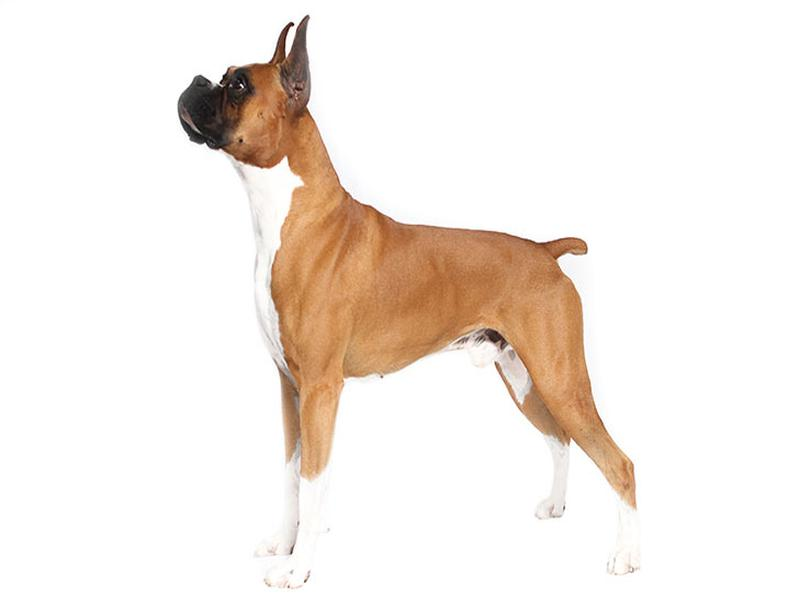dog_stand: (174, 11, 641, 600)
